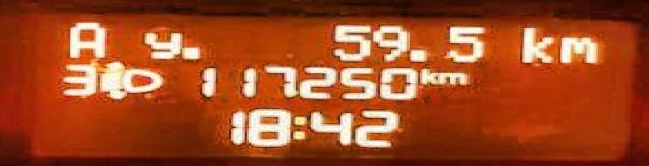-: (404, 46, 429, 61), (180, 44, 202, 59)
0: (378, 65, 418, 100)
1: (193, 64, 217, 98), (233, 63, 257, 97), (224, 108, 244, 145)
2: (353, 107, 400, 148), (298, 64, 338, 99)
3: (56, 62, 98, 98)
4: (306, 109, 351, 145)
5: (438, 23, 487, 63), (327, 22, 369, 62), (338, 65, 378, 99)
7: (260, 63, 295, 98)
8: (244, 105, 289, 148)
9: (369, 23, 409, 62)
X: (60, 19, 106, 59), (515, 23, 553, 63), (555, 34, 602, 64), (140, 27, 180, 60), (289, 113, 307, 139), (438, 69, 469, 84), (418, 66, 438, 84)
